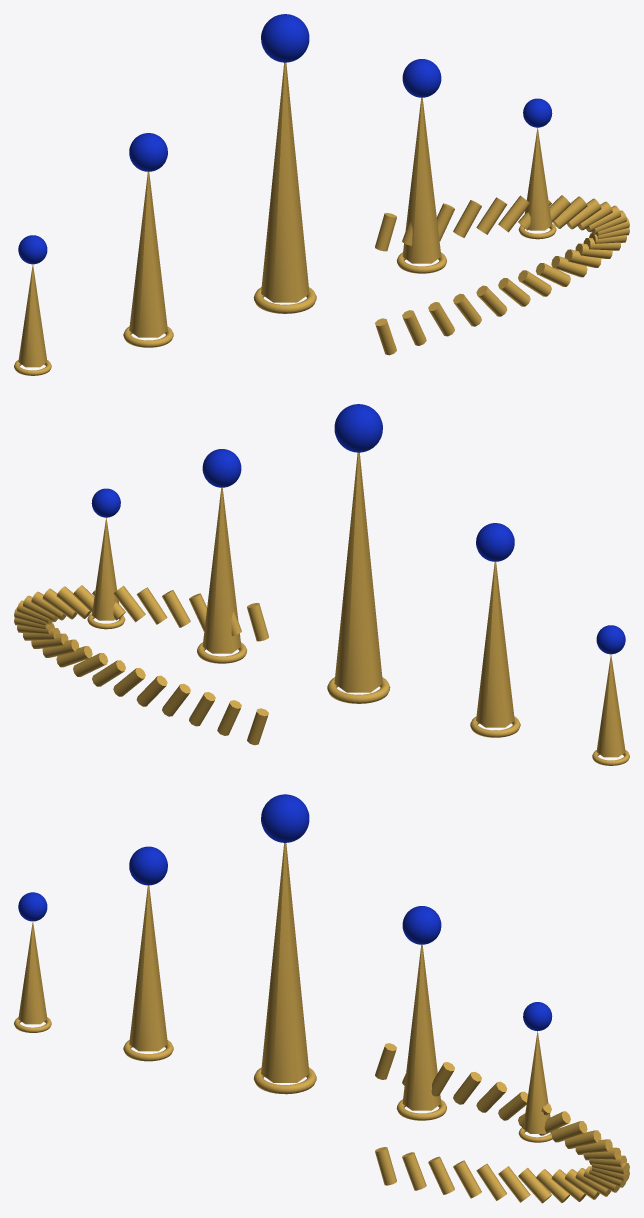
The model's file is tiara.glb.
3 renders of one model, top to bottom at view 1: azimuth 30°, elevation 25°; view 2: azimuth 150°, elevation 25°; view 3: azimuth 330°, elevation 25°, orthographic.
Parts seen in each view (by area): view 1: metal (×11), gem (×5); view 2: metal (×11), gem (×5); view 3: metal (×6), gem (×5).
Boxes of the visible parts, x1,y1,x2,y2 form: metal (×11): (18,62,551,367); gem (×5): (18,14,552,264); metal (×11): (92,452,625,757); gem (×5): (91,404,625,654); metal (×6): (18,843,550,1133); gem (×5): (18,794,552,1030).
Bounding box in the file's own units: 5.81 × 3.3 × 0.52.
